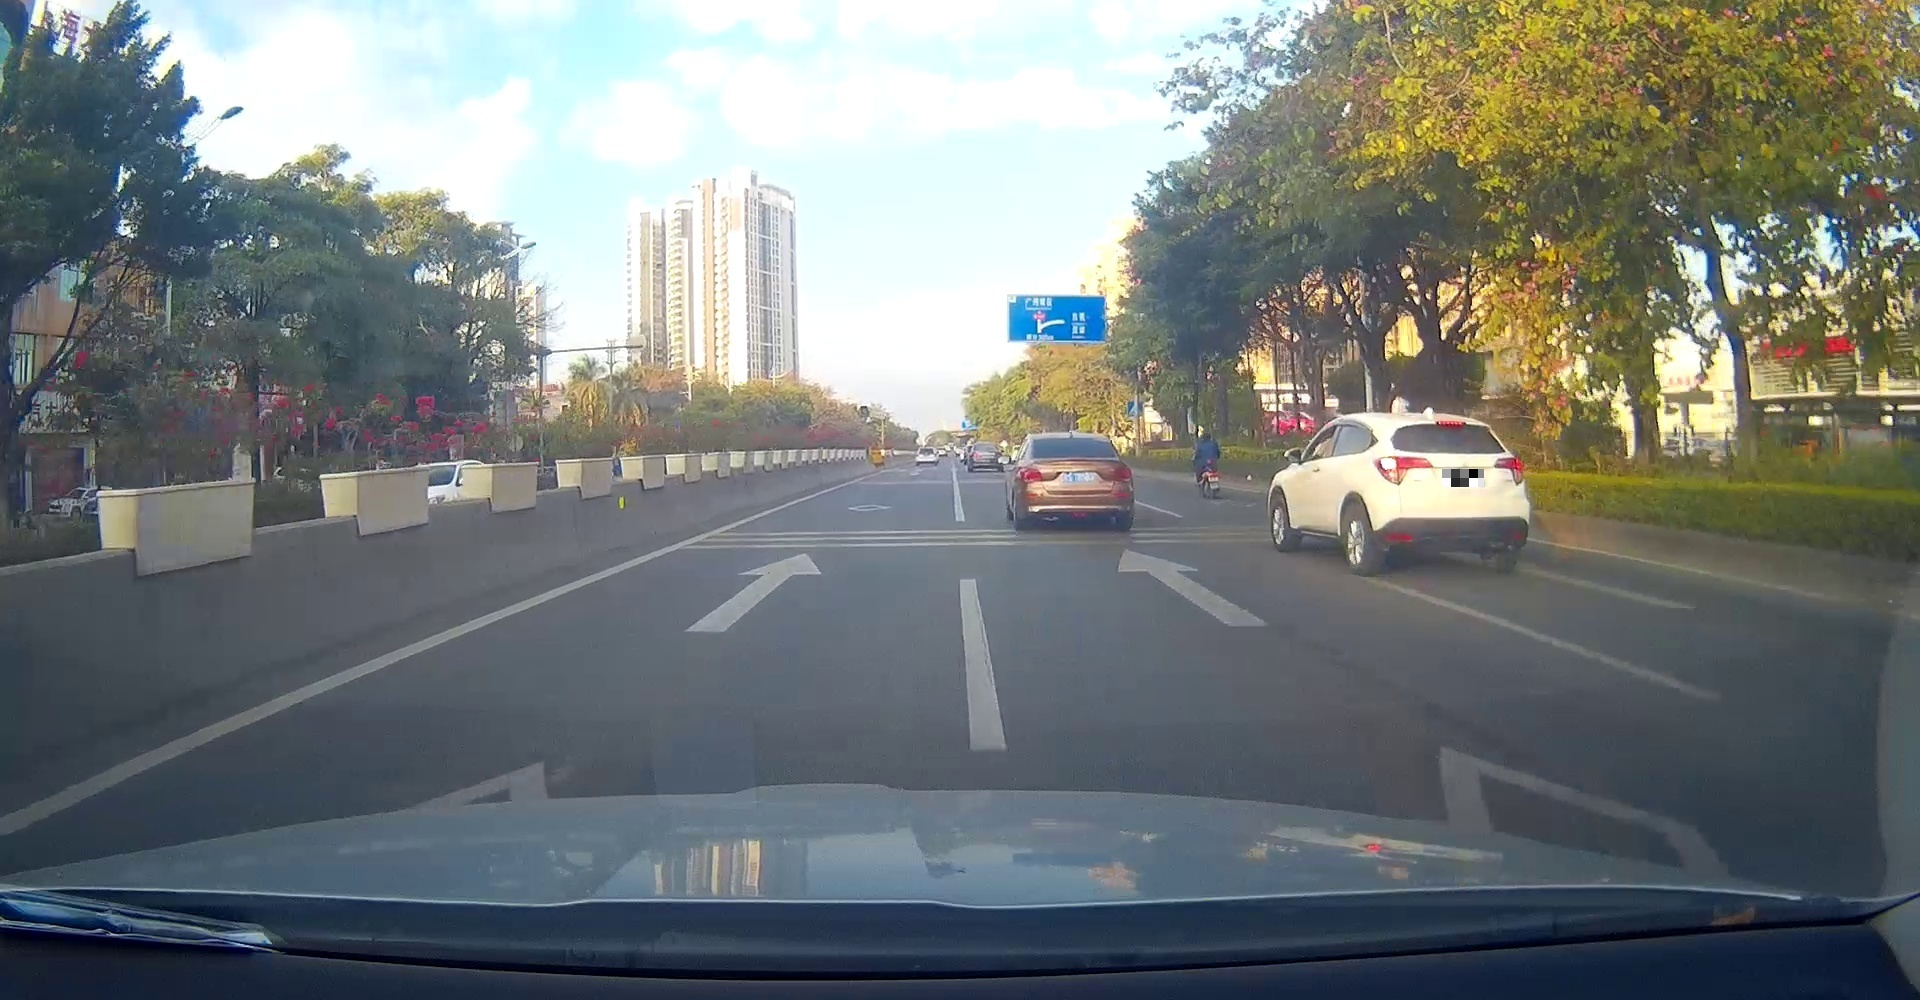L_light: (1371, 456, 1434, 485), (1016, 467, 1043, 484)
R_light: (1495, 456, 1524, 485), (1109, 468, 1131, 482)
T_light: (1436, 420, 1465, 428), (1068, 438, 1079, 442)
day-brake: (1371, 412, 1530, 577)
day-no: (1016, 433, 1133, 530)
plate_1: (1443, 470, 1484, 487)
